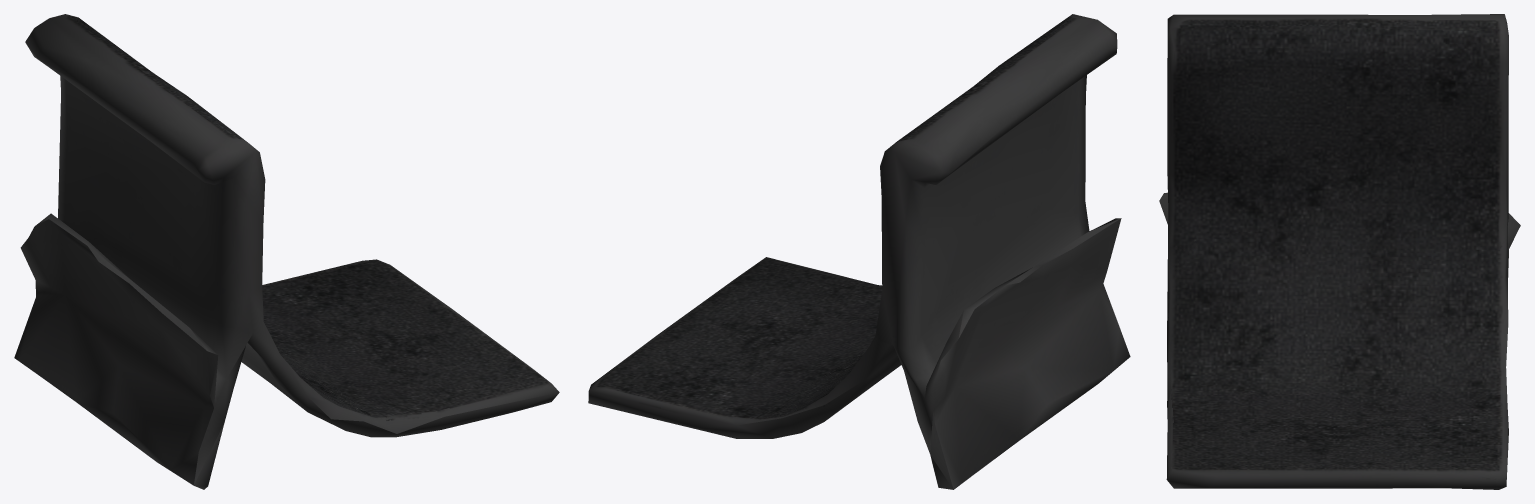
The model's file is carpet-stain.glb.
The picture shows the model from 3 angles, left to right: view 1: azimuth 30°, elevation 25°; view 2: azimuth 150°, elevation 25°; view 3: azimuth 270°, elevation 25°; orthographic projection. The views are drawn at different scales.
Parts seen in each view (by area): view 1: geometry_0.001; view 2: geometry_0.001; view 3: geometry_0.001.
Part boxes in pixels (box(x1,y1,x2,y2)): geometry_0.001: box(14, 14, 559, 489); geometry_0.001: box(588, 14, 1130, 489); geometry_0.001: box(1159, 14, 1520, 489).
Size of the model in its own units: 0.9982 by 0.8759 by 0.8874.
Materials: 1 (1 with a texture image).
